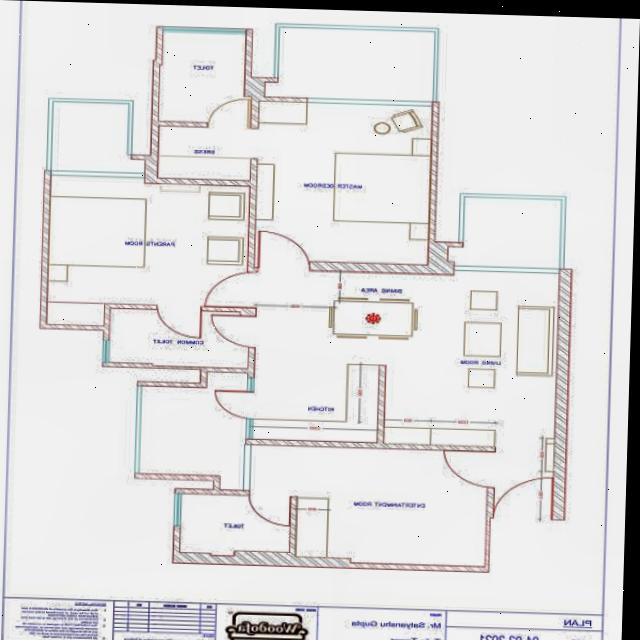room: (383, 274, 559, 519), (47, 180, 250, 329), (247, 445, 488, 567), (255, 101, 431, 264), (256, 270, 430, 362), (136, 369, 247, 490), (277, 28, 432, 101), (251, 362, 378, 442), (110, 309, 250, 366), (161, 32, 243, 122), (461, 197, 560, 271), (180, 493, 287, 554), (158, 126, 251, 180)
